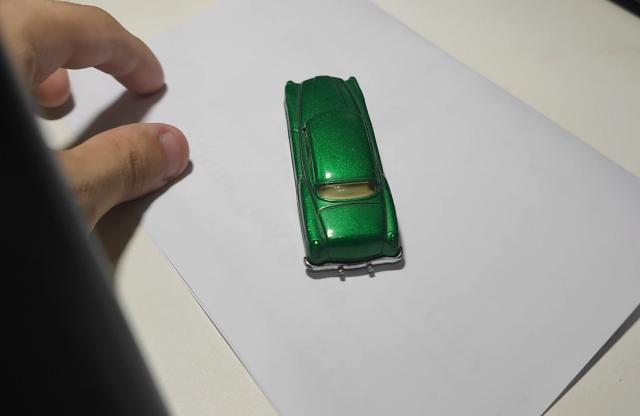06_MASERATI: (283, 76, 406, 280)
